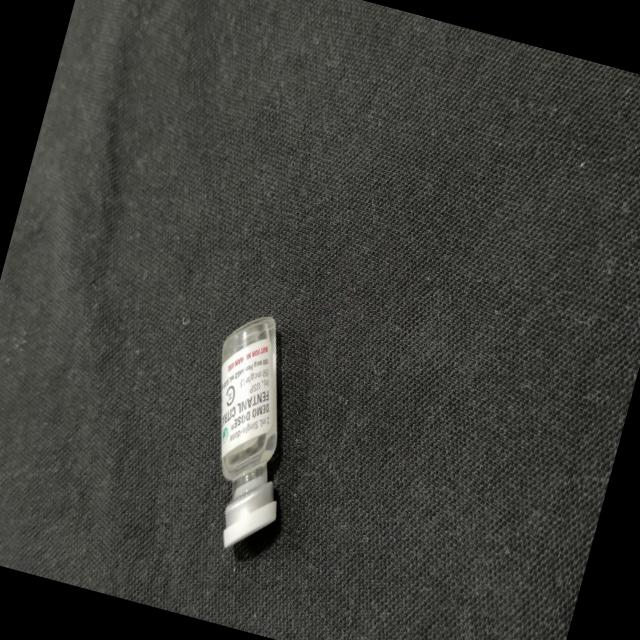fentanl_citrat: (173, 308, 325, 556)
